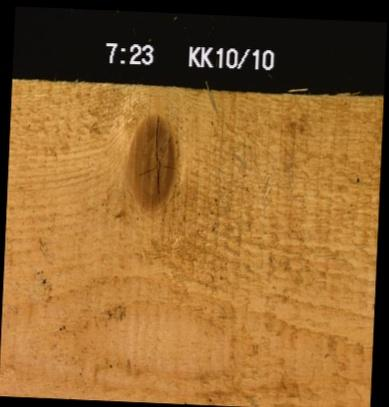sound_knot: (126, 112, 176, 210)
